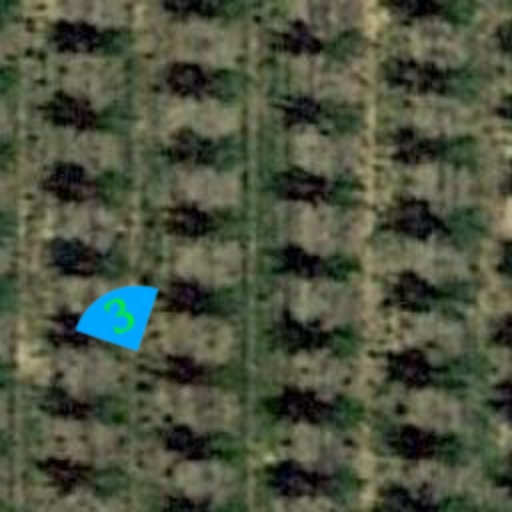quarter_circle: (60, 256, 180, 376)
